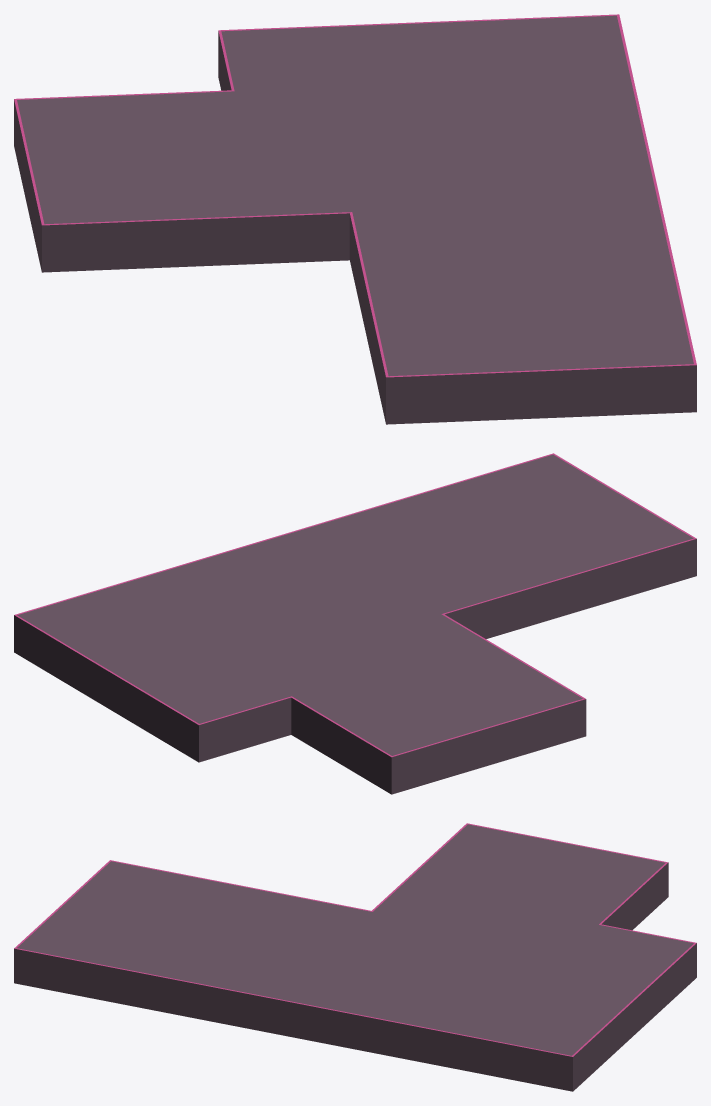
The model's file is way-1351248943.glb.
The picture shows the model from 3 angles, top to bottom: view 1: azimuth 30°, elevation 25°; view 2: azimuth 150°, elevation 25°; view 3: azimuth 270°, elevation 25°; orthographic projection. The views are drawn at different scales.
Visible parts, largest first — view 1: way-1351248943; view 2: way-1351248943; view 3: way-1351248943.
Boxes of the visible parts, x1,y1,x2,y2 form: way-1351248943: [14, 14, 696, 424]; way-1351248943: [14, 453, 696, 794]; way-1351248943: [14, 823, 696, 1091].
Bounding box in the file's own units: 43.31 × 3 × 53.47.
